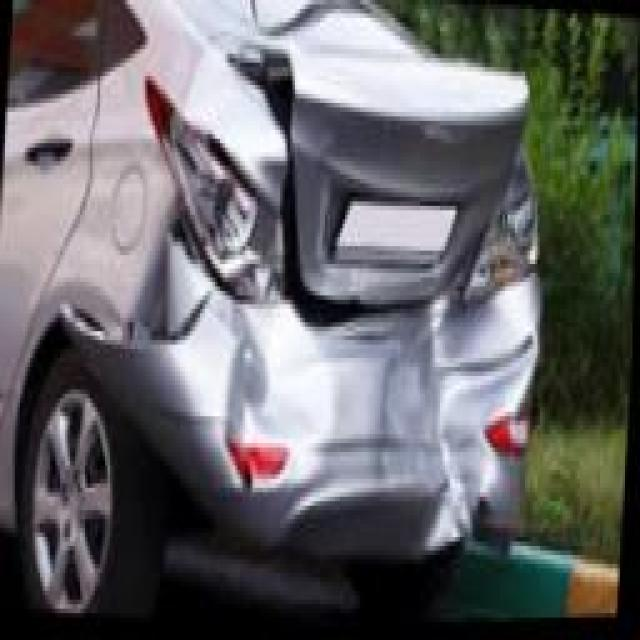Bumper: (62, 276, 538, 545)
Dickey: (209, 38, 527, 332)
Fender: (121, 221, 206, 320)
Light: (146, 72, 281, 302), (465, 195, 533, 311)
